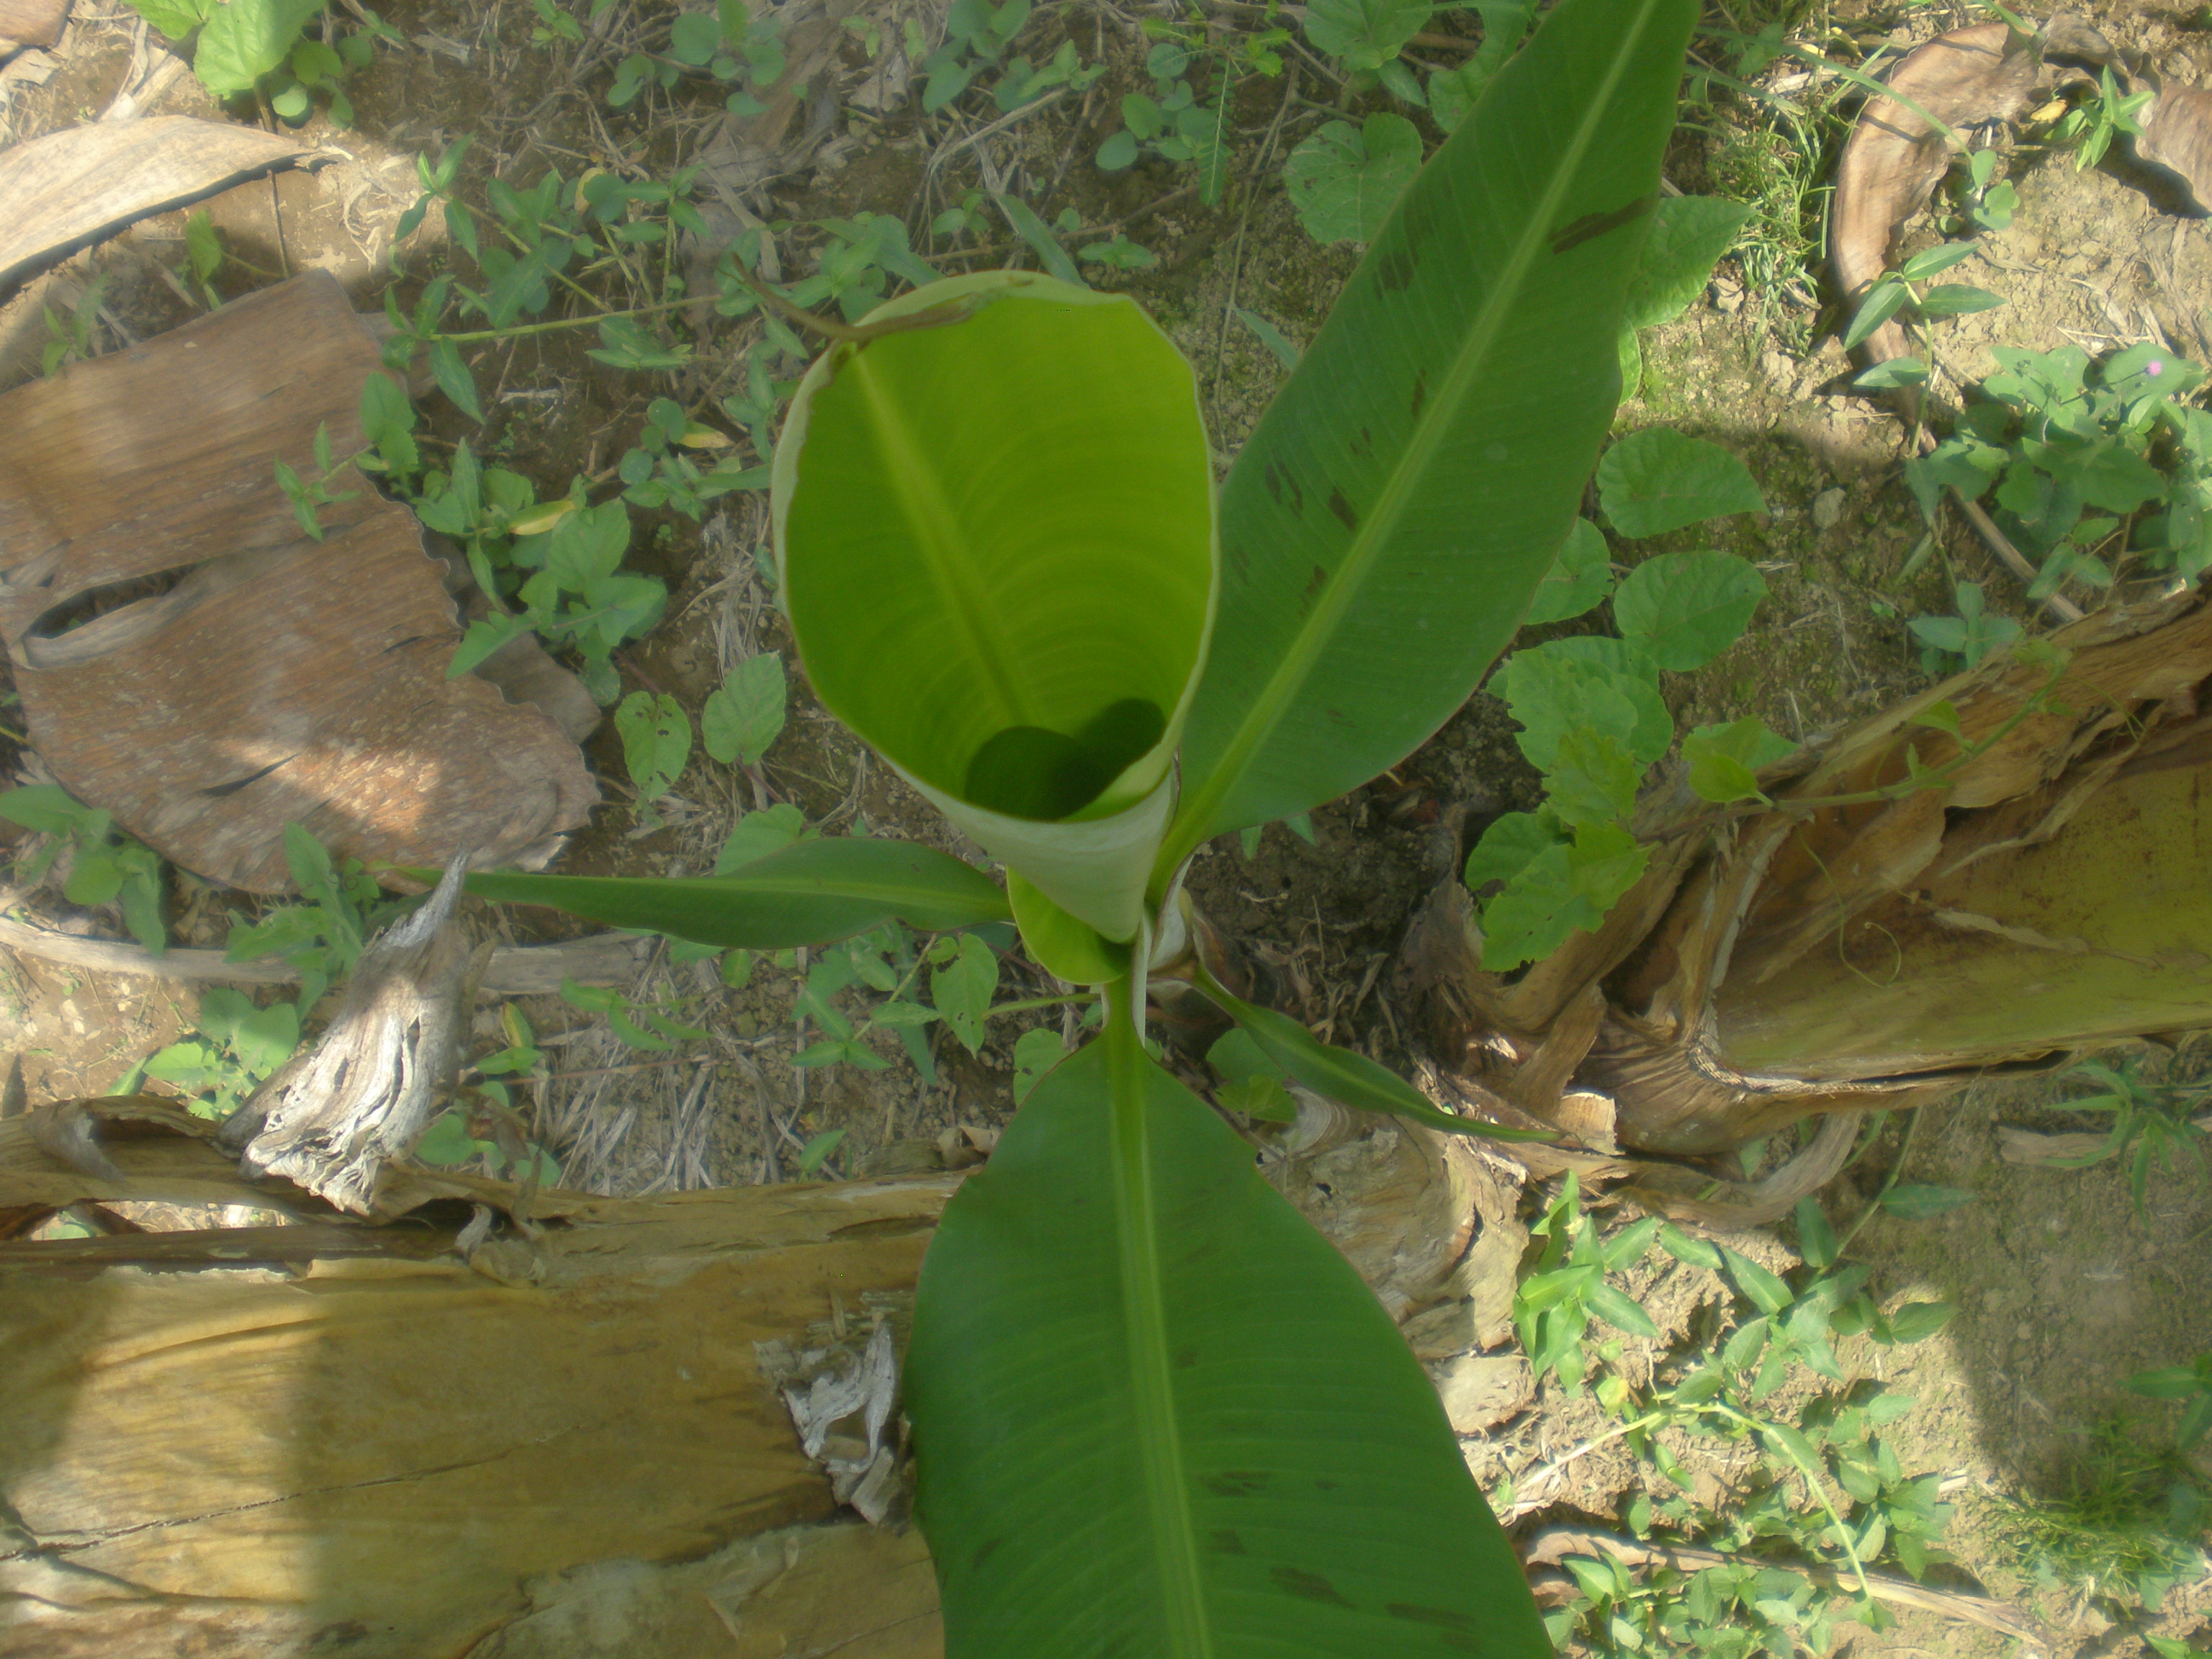candleleafs: (759, 268, 1223, 941)
